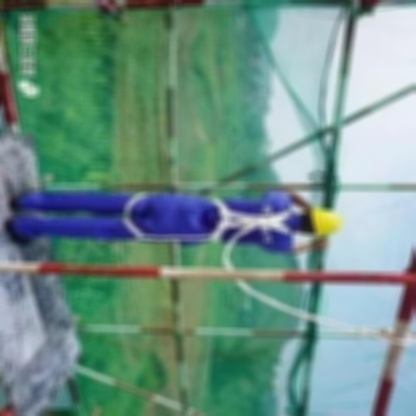yellow: (304, 205, 348, 242)
